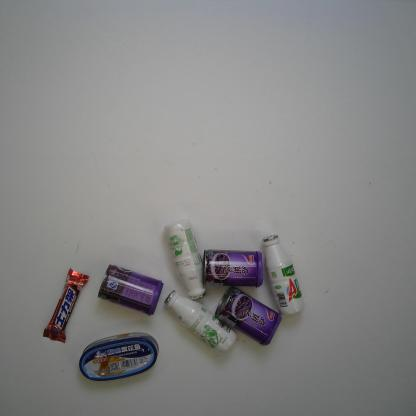Canned Food: (214, 287, 284, 347), (78, 331, 160, 382), (96, 263, 165, 317), (202, 248, 264, 289)
Chocolate: (42, 266, 90, 344)
Milk: (163, 288, 238, 355), (162, 218, 207, 301), (261, 233, 305, 316)
